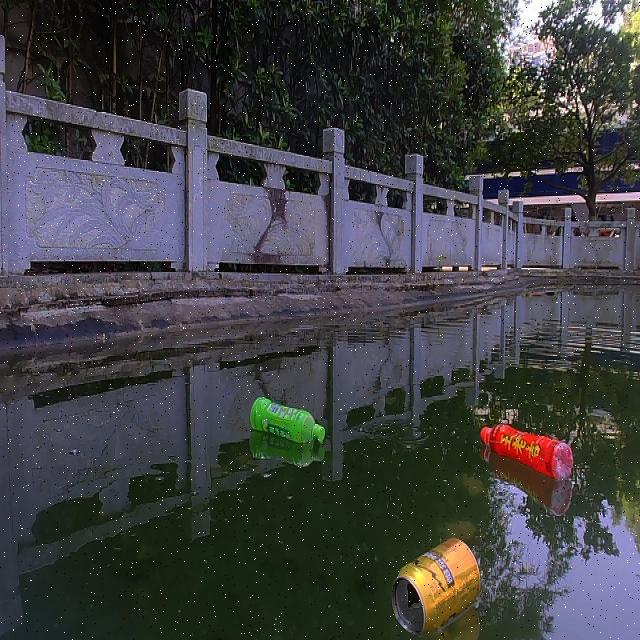bottle: (473, 412, 574, 476), (245, 394, 328, 449)
can: (388, 537, 482, 635)
